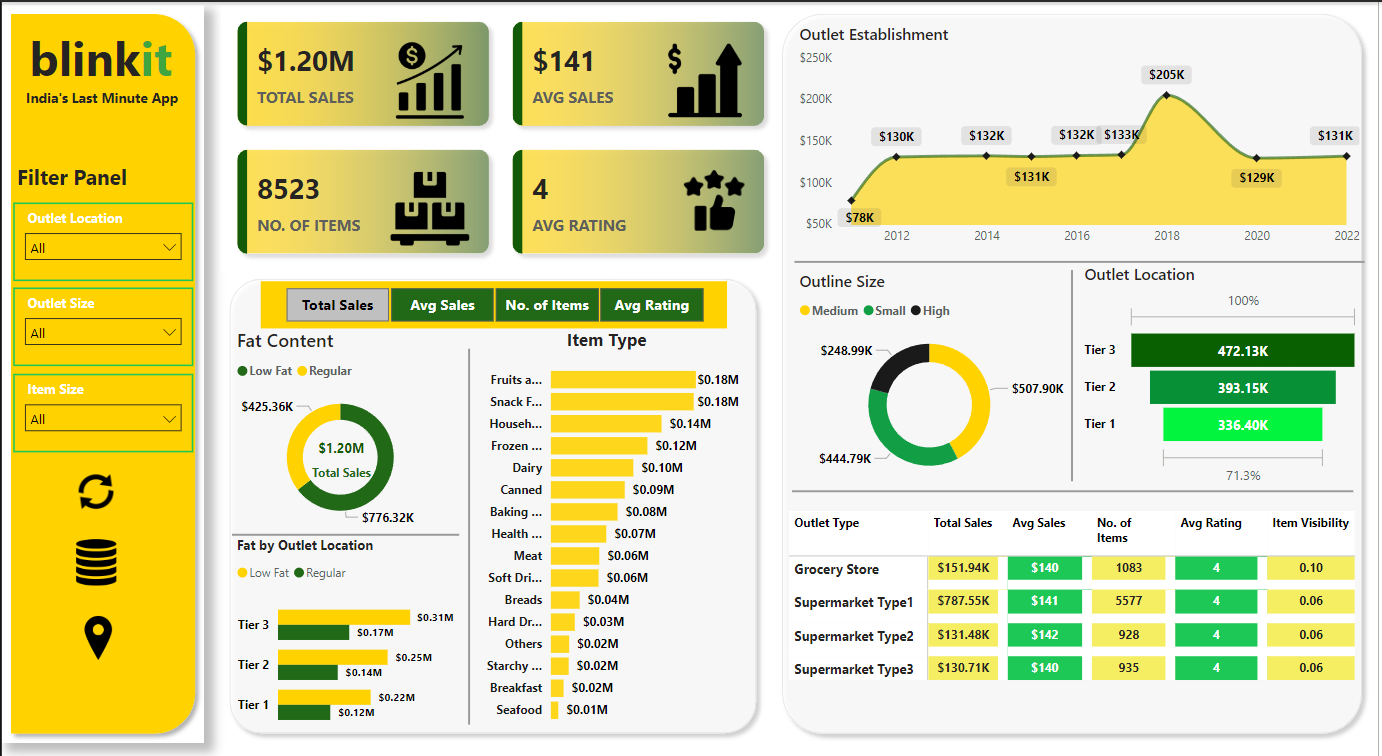

What the dashboard file says about the page in this screenshot:
{"tool":"powerbi","page":{"name":"Page 1","canvas":[1400,800],"ordinal":0},"visuals":[{"type":"shape","box":[0,0,205.6,750.4],"z":0},{"type":"textbox","box":[22.5,15,183.1,106.6],"z":1000},{"type":"textbox","box":[10.5,79.5,183.1,31.5],"z":2000},{"type":"cardVisual","fields":{"Data":["BlinkIT Grocery Data.Total Sales","BlinkIT Grocery Data.Avg Sales","BlinkIT Grocery Data.No. of Items","BlinkIT Grocery Data.Avg Rating"]},"box":[222.1,0,570.3,270.2],"z":3000},{"type":"shape","box":[222.1,270.2,553.8,480.3],"z":4000},{"type":"donutChart","title":" Fat Content","fields":{"Y":["BlinkIT Grocery Data.Total Sales"],"Category":["BlinkIT Grocery Data.Item Fat Content"]},"box":[234.1,328.7,220.6,211.6],"z":5000},{"type":"slicer","fields":{"Values":["Metrics.Metrics"]},"box":[262.7,280.7,474.3,48],"z":6000},{"type":"card","fields":{"Values":["BlinkIT Grocery Data.Total Sales"]},"box":[256.6,400.7,177.1,121.6],"z":7000},{"type":"clusteredBarChart","title":"Fat by Outlet Location","fields":{"Y":["BlinkIT Grocery Data.Total Sales"],"Category":["BlinkIT Grocery Data.Outlet Location Type"],"Series":["BlinkIT Grocery Data.Item Fat Content"]},"box":[234.1,540.3,231.1,210.1],"z":8000},{"type":"shape","box":[234.1,495.3,231.1,88.6],"z":9000},{"type":"shape","box":[465.3,349.7,19.5,382.7],"z":10000},{"type":"barChart","title":"Item Type","fields":{"Y":["BlinkIT Grocery Data.Total Sales"],"Category":["BlinkIT Grocery Data.Item Type"]},"box":[475.8,328.7,279.2,412.7],"z":11000},{"type":"shape","box":[784.7,0,607.9,750.4],"z":12000},{"type":"lineChart","title":"Outlet Establishment ","fields":{"Category":["BlinkIT Grocery Data.Outlet Establishment Year"],"Y":["BlinkIT Grocery Data.Total Sales"]},"box":[806.3,17.8,579.9,235.3],"z":13000},{"type":"donutChart","title":"Outline Size","fields":{"Y":["BlinkIT Grocery Data.Total Sales"],"Category":["BlinkIT Grocery Data.Outlet Size"]},"box":[806.3,269.6,274.7,225.1],"z":14000},{"type":"shape","box":[806.3,253.1,579.9,16.5],"z":15000},{"type":"shape","box":[1081,269.6,15.3,214.9],"z":16000},{"type":"funnel","title":"Outlet Location","fields":{"Y":["Sum(BlinkIT Grocery Data.Sales)"],"Category":["BlinkIT Grocery Data.Outlet Location Type"]},"box":[1096.3,262,290,232.7],"z":17000},{"type":"shape","box":[803.8,488.4,571,12.7],"z":18000},{"type":"pivotTable","fields":{"Rows":["BlinkIT Grocery Data.Outlet Type"],"Values":["BlinkIT Grocery Data.Total Sales","BlinkIT Grocery Data.Avg Sales","BlinkIT Grocery Data.No. of Items","BlinkIT Grocery Data.Avg Rating","Avg(BlinkIT Grocery Data.Item Visibility)"]},"box":[796.2,510,590.1,231.5],"z":19000},{"type":"slicer","fields":{"Values":["BlinkIT Grocery Data.Outlet Location Type"]},"box":[11.4,200.9,183.1,80.1],"z":20000},{"type":"slicer","fields":{"Values":["BlinkIT Grocery Data.Item Type"]},"box":[11.4,375.2,183.1,80.1],"z":20001},{"type":"slicer","fields":{"Values":["BlinkIT Grocery Data.Outlet Size"]},"box":[11.4,287.4,183.1,80.1],"z":20002},{"type":"textbox","box":[10.2,155.2,170.4,45.8],"z":20003},{"type":"image","box":[64.9,466.8,61,57.2],"z":20004},{"type":"image","box":[67.4,535.4,57.2,63.6],"z":20005},{"type":"image","box":[69.9,616.8,56,54.7],"z":20006}]}

Visuals, with their boxes on the page's 1400x800 design canvas (x1, y1, x2, y2). These are canvas units, not pixel positions in the 1382x756 screenshot, which may show the page scaled, cropped or inside an application window:
shape: (left=0, top=0, right=206, bottom=750)
textbox: (left=22, top=15, right=206, bottom=122)
textbox: (left=10, top=80, right=194, bottom=111)
cardVisual - BlinkIT Grocery Data.Total Sales x BlinkIT Grocery Data.Avg Sales: (left=222, top=0, right=792, bottom=270)
shape: (left=222, top=270, right=776, bottom=750)
" Fat Content" donutChart: (left=234, top=329, right=455, bottom=540)
slicer - Metrics.Metrics: (left=263, top=281, right=737, bottom=329)
card - BlinkIT Grocery Data.Total Sales: (left=257, top=401, right=434, bottom=522)
"Fat by Outlet Location" clusteredBarChart: (left=234, top=540, right=465, bottom=750)
shape: (left=234, top=495, right=465, bottom=584)
shape: (left=465, top=350, right=485, bottom=732)
"Item Type" barChart: (left=476, top=329, right=755, bottom=741)
shape: (left=785, top=0, right=1393, bottom=750)
"Outlet Establishment " lineChart: (left=806, top=18, right=1386, bottom=253)
"Outline Size" donutChart: (left=806, top=270, right=1081, bottom=495)
shape: (left=806, top=253, right=1386, bottom=270)
shape: (left=1081, top=270, right=1096, bottom=484)
"Outlet Location" funnel: (left=1096, top=262, right=1386, bottom=495)
shape: (left=804, top=488, right=1375, bottom=501)
pivotTable - BlinkIT Grocery Data.Outlet Type x BlinkIT Grocery Data.Total Sales: (left=796, top=510, right=1386, bottom=742)
slicer - BlinkIT Grocery Data.Outlet Location Type: (left=11, top=201, right=194, bottom=281)
slicer - BlinkIT Grocery Data.Item Type: (left=11, top=375, right=194, bottom=455)
slicer - BlinkIT Grocery Data.Outlet Size: (left=11, top=287, right=194, bottom=368)
textbox: (left=10, top=155, right=181, bottom=201)
image: (left=65, top=467, right=126, bottom=524)
image: (left=67, top=535, right=125, bottom=599)
image: (left=70, top=617, right=126, bottom=672)
